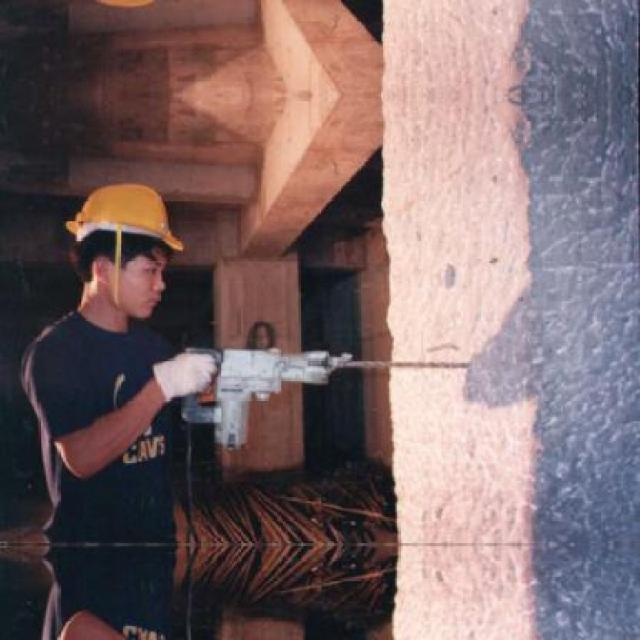helmet: (61, 171, 188, 324)
